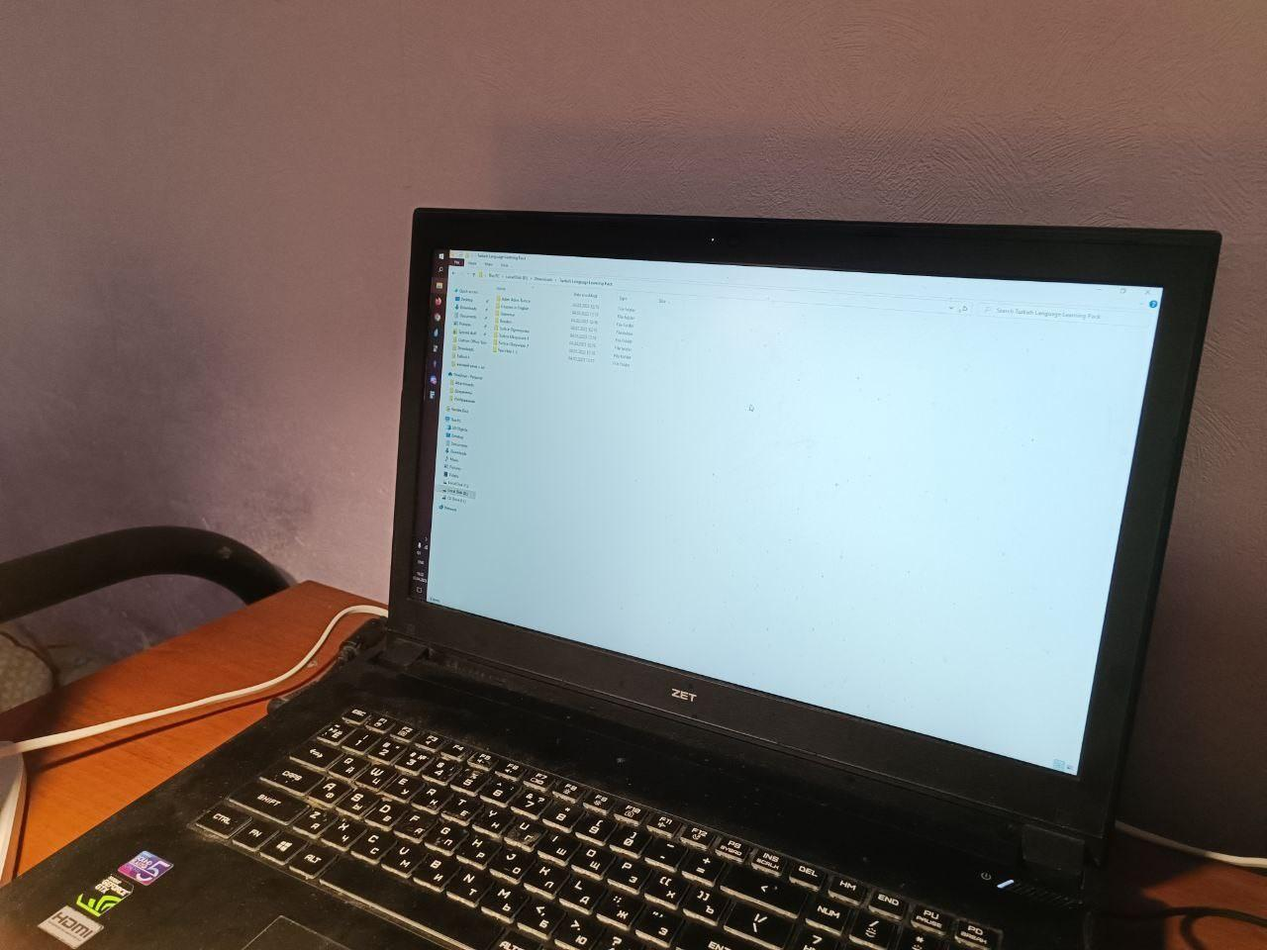monitor: (373, 195, 1229, 851)
